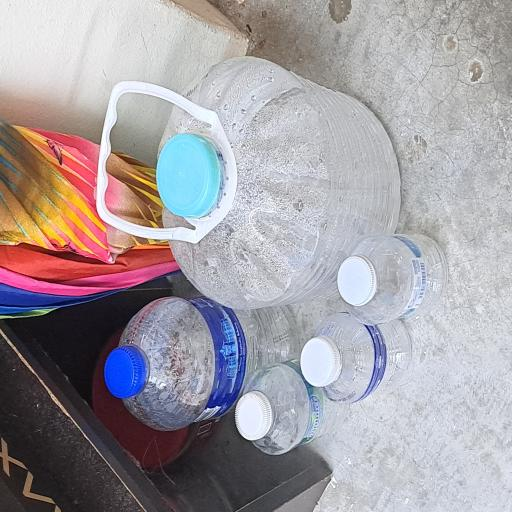plastic bottle: (150, 208, 344, 512), (61, 156, 162, 397), (42, 323, 115, 468), (77, 419, 150, 512), (141, 465, 209, 512)
plastic bottle cap: (219, 208, 285, 294), (86, 137, 124, 195), (93, 400, 133, 455), (155, 449, 193, 505), (54, 312, 91, 363)
